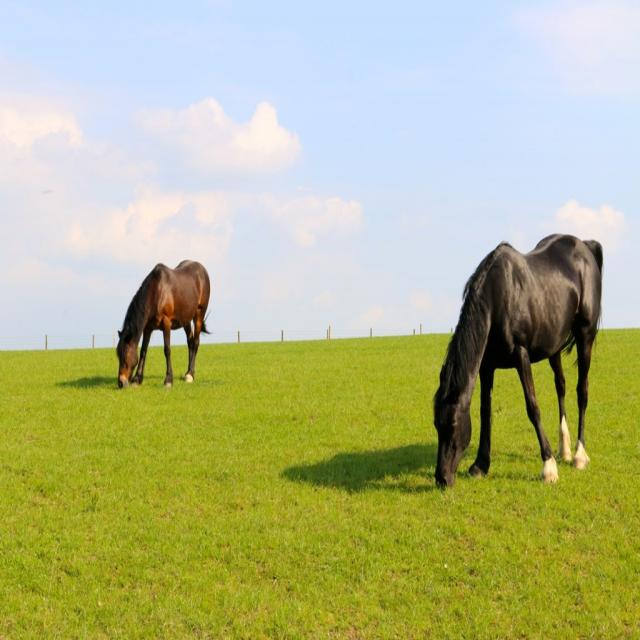Horse: (429, 232, 604, 491)
